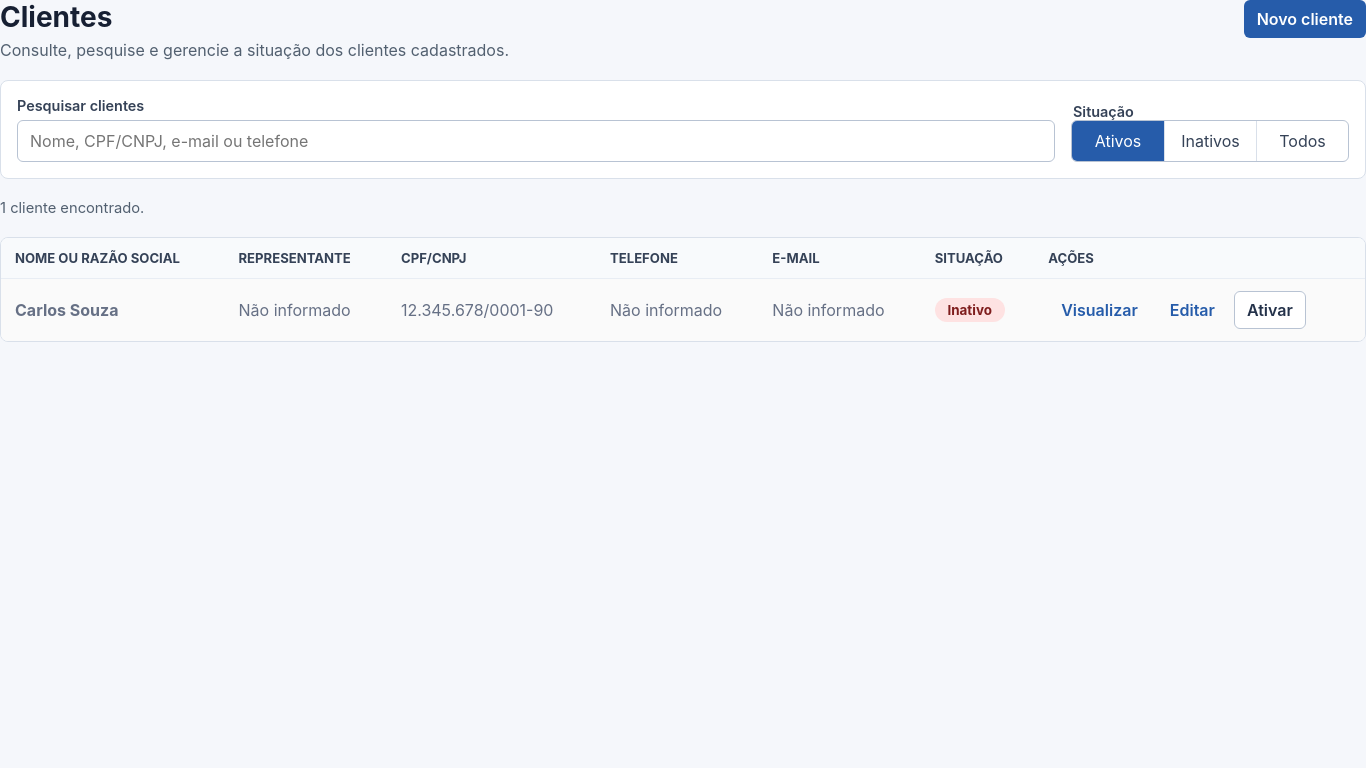
Test: CustomerListPage › activates customer
Click the button with aria-label "Ativar cliente Carlos Souza".
click(1270, 310)  # box [1234,291,1306,329]
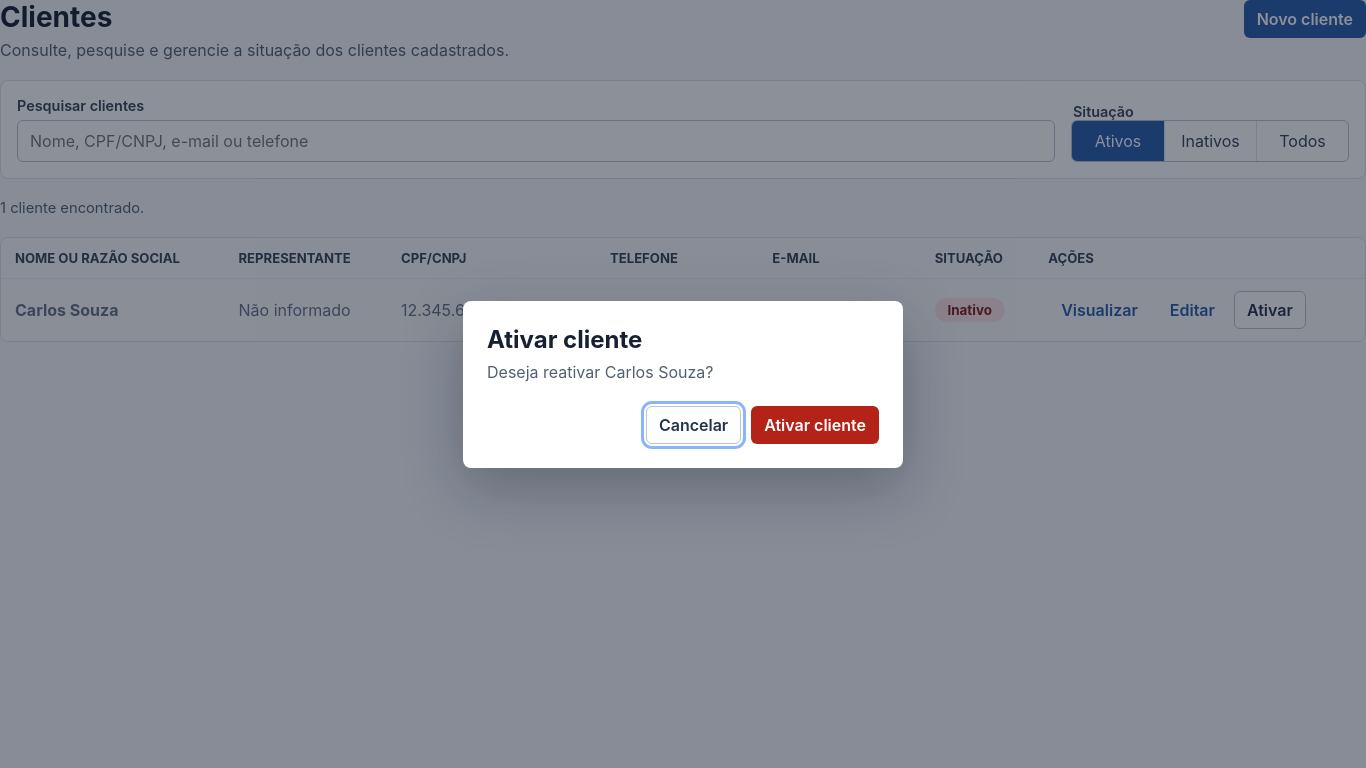
Click the button "Ativar cliente".
click(815, 424)  # box [751,406,879,444]
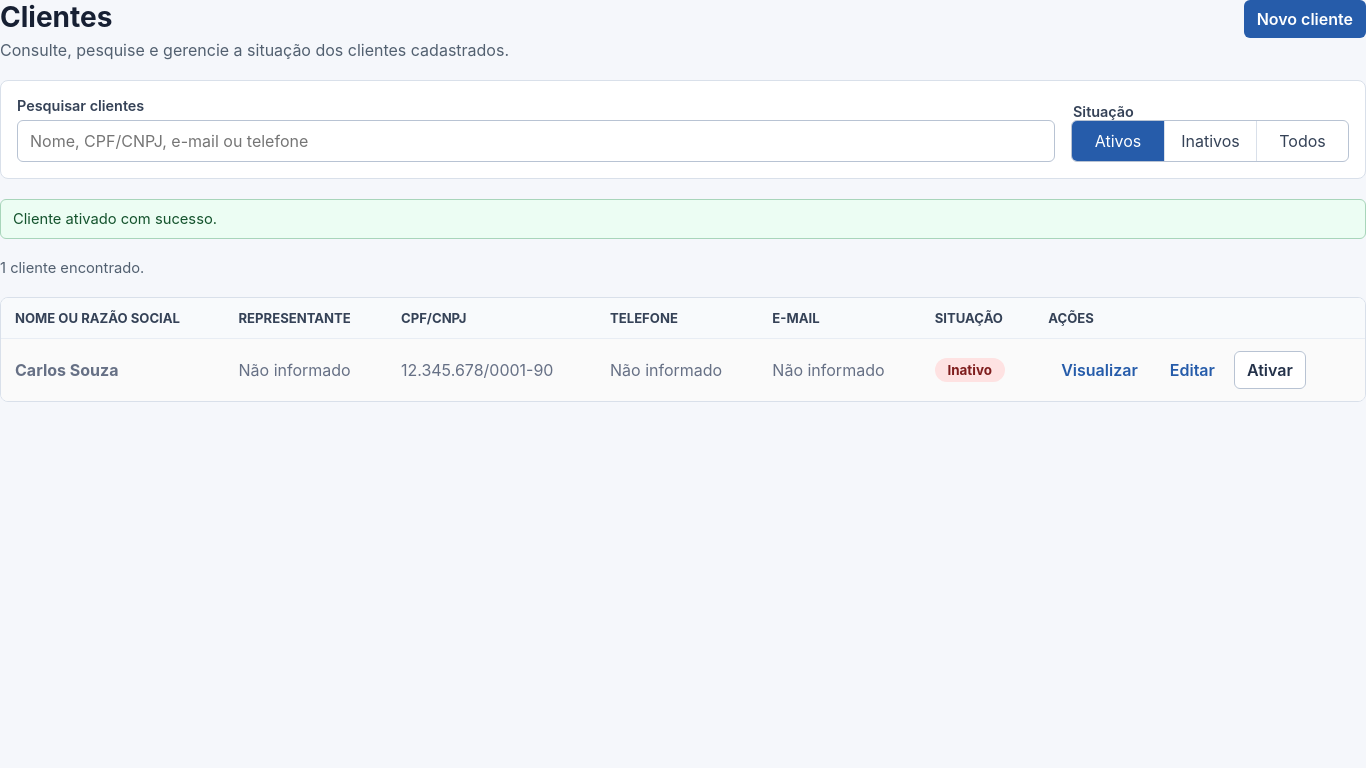
expect the text "Cliente ativado com sucesso." is shown: met, box [0,199,1365,239]
